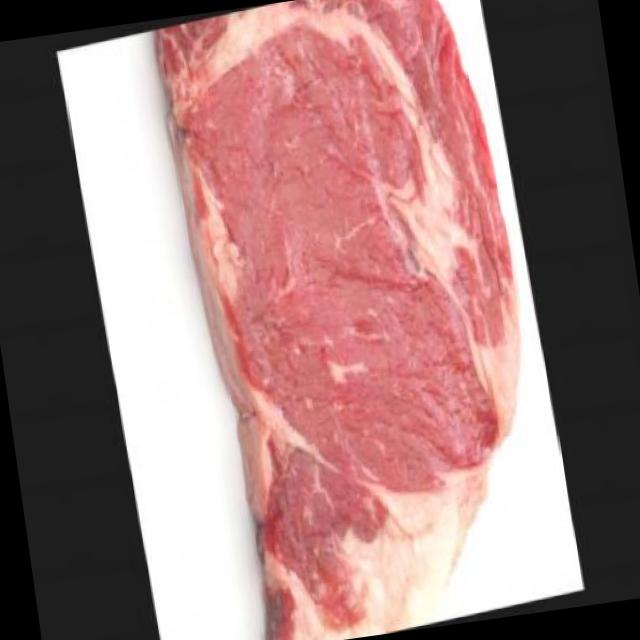beef: (147, 0, 574, 640)
